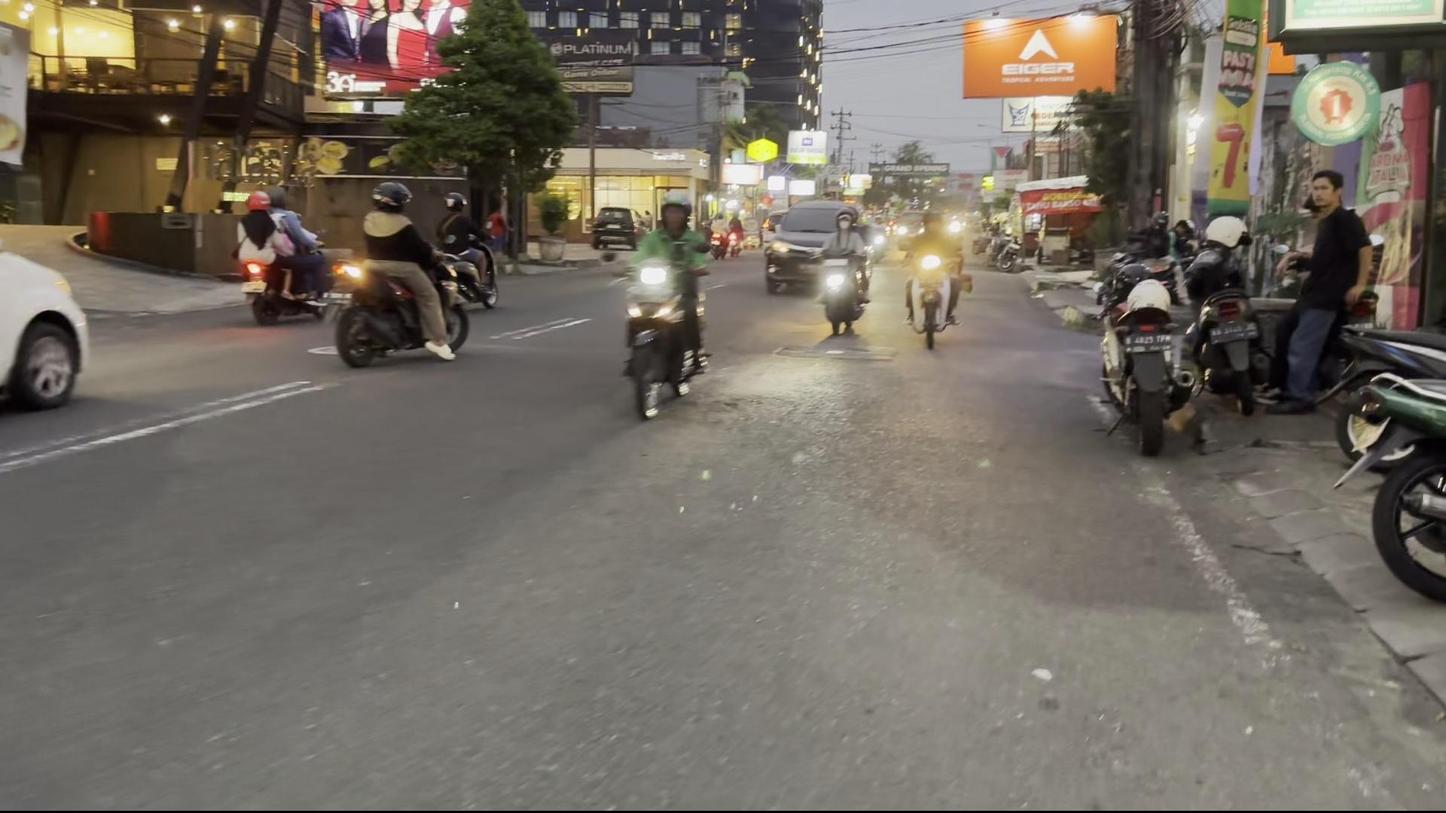nohelm: (1307, 167, 1347, 213)
